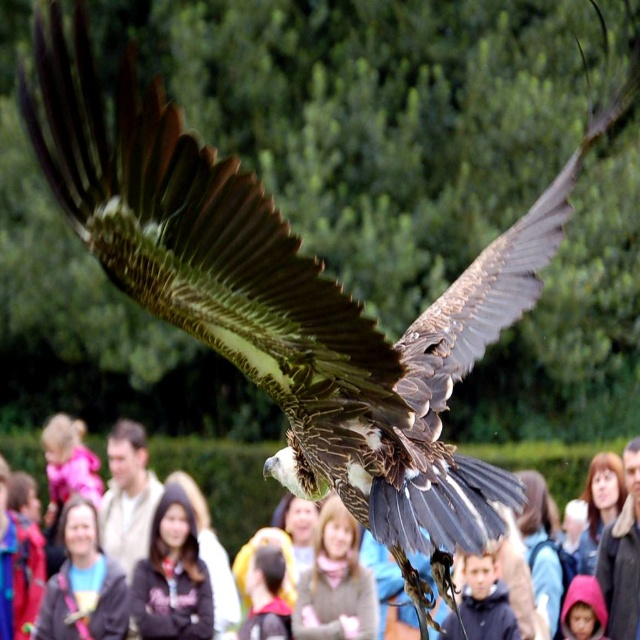Eagle: (15, 0, 639, 633)
